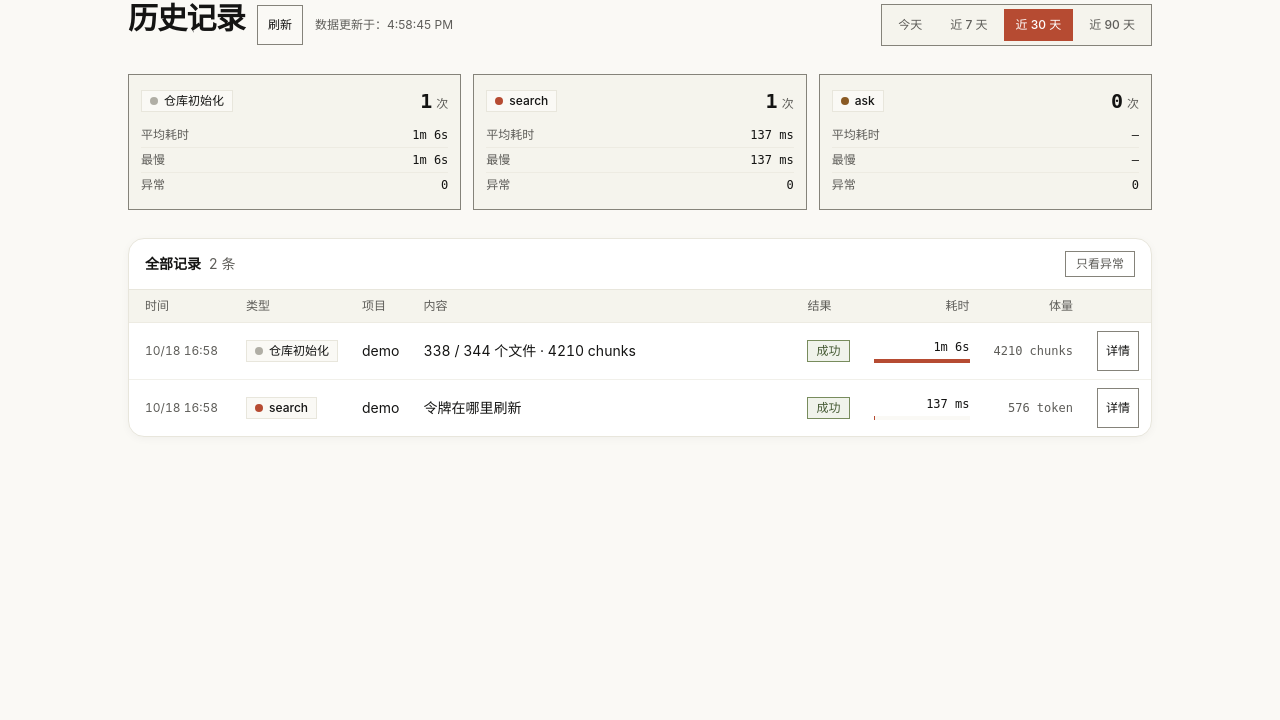
Scenario: §需求2 合并表格（TASK-100） › 「详情」弹出两个可滚动代码块（Tool 输入 / 输出）
Click the button "详情" in the row of "令牌在哪里刷新" at [1118, 408], box [1097,388,1139,428]
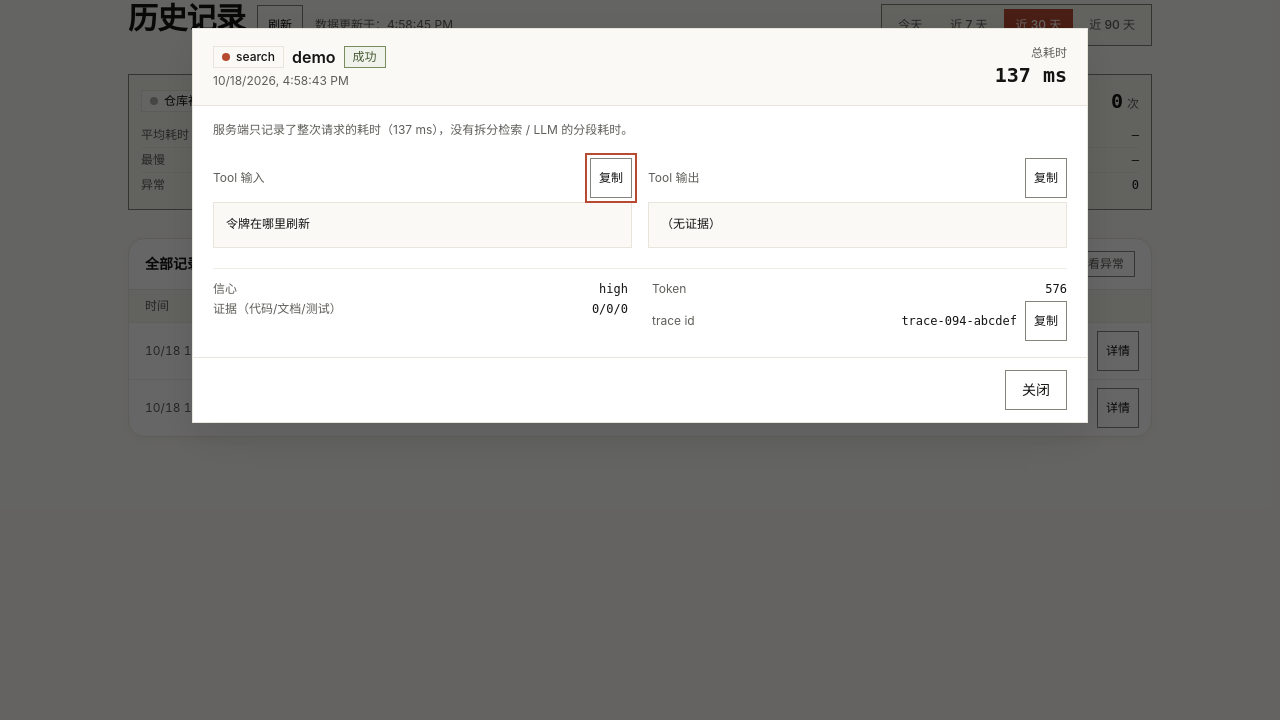
Result: the text "Tool 输入" is shown at [213,170,264,186]
Result: the text "Tool 输出" is shown at [648,170,700,186]
Result: the text "令牌在哪里刷新" is shown at [213,202,632,248]
